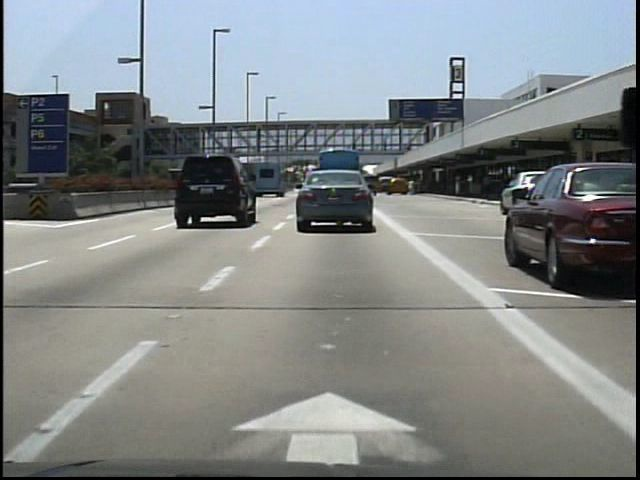person: (403, 176, 417, 201), (381, 136, 394, 158), (347, 136, 360, 156)
